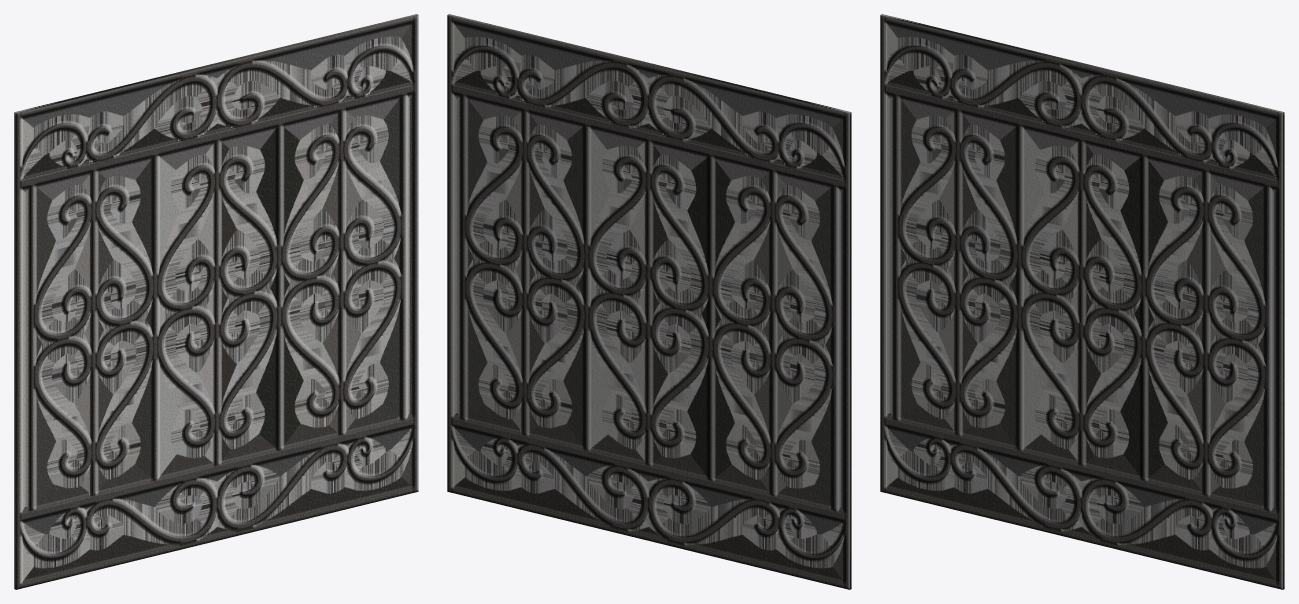
Rendered from FenceMetal02.FBX.
3 views of the same model, side by side, from view 1: azimuth 30°, elevation 25°; view 2: azimuth 150°, elevation 25°; view 3: azimuth 330°, elevation 25° (orthographic).
Parts seen in each view (by area): view 1: Fence02; view 2: Fence02; view 3: Fence02.
Part boxes in pixels (x1,y1,x2,y2): Fence02: (14, 14, 418, 589); Fence02: (447, 14, 851, 589); Fence02: (880, 14, 1284, 589).
Size of the model in its own units: 27.14 by 30.68 by 0.1983.
